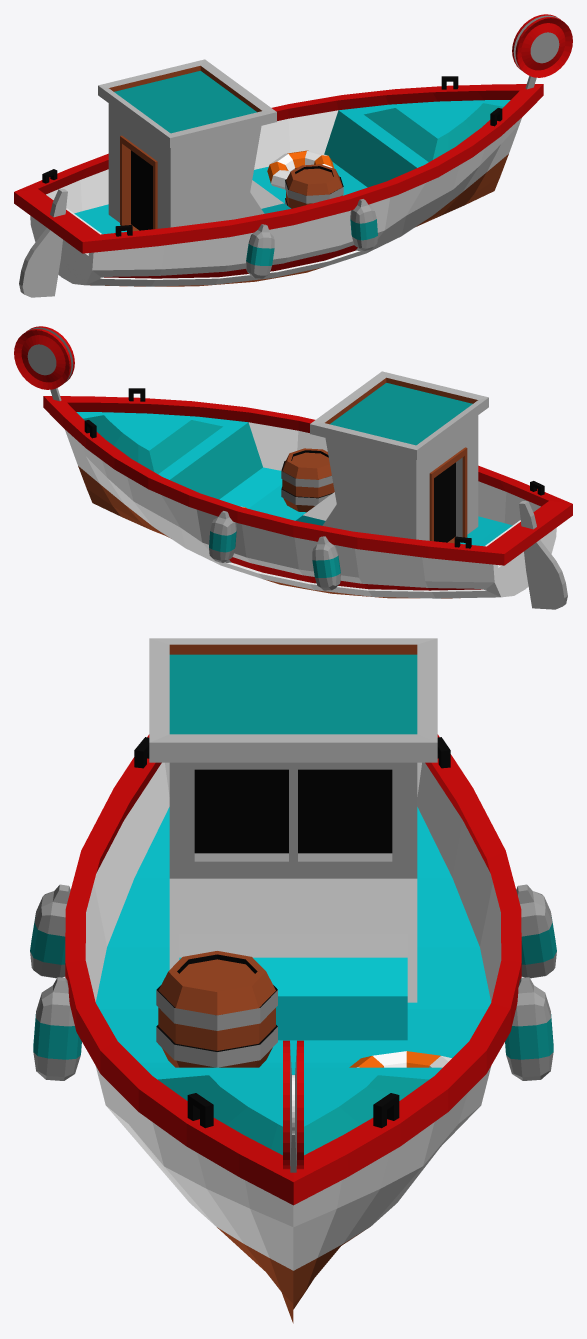
File: boat.glb
The picture shows the model from 3 angles, top to bottom: view 1: azimuth 30°, elevation 25°; view 2: azimuth 150°, elevation 25°; view 3: azimuth 270°, elevation 25°; orthographic projection. The views are drawn at different scales.
Parts seen in each view (by area): view 1: fishingboat_greek; view 2: fishingboat_greek; view 3: fishingboat_greek.
Boxes of the visible parts, <box> form: fishingboat_greek: <box>14,14,572,297</box>; fishingboat_greek: <box>14,326,572,609</box>; fishingboat_greek: <box>30,638,556,1323</box>.
Bounding box in the file's own units: 10.59 × 3.49 × 4.4.
1 material, 1 textured.
